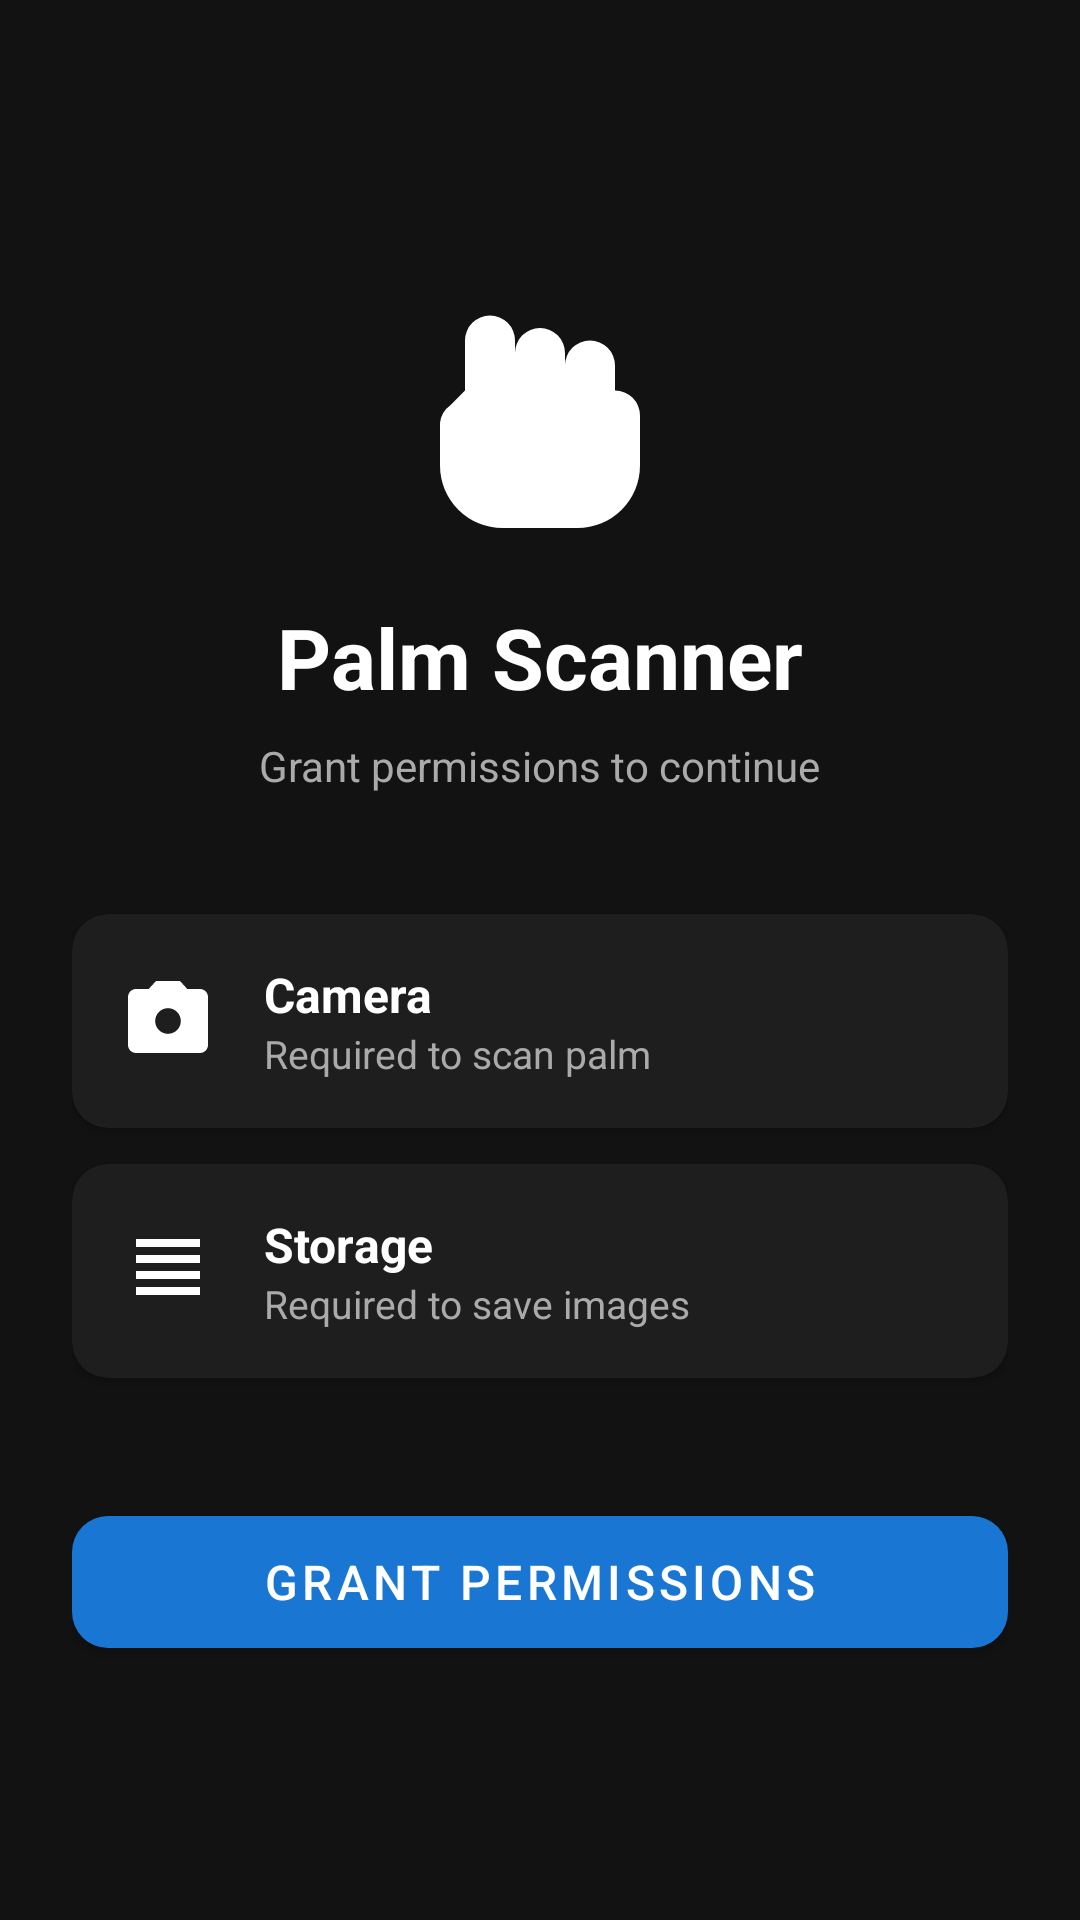

Screen size 1080x1920. Icon name, then its box in pixels as box(x1, y1, x2, y2):
hand: box(440, 315, 640, 528)
